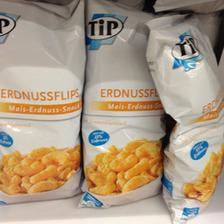Chips: (0, 0, 84, 202), (84, 0, 166, 204), (148, 18, 220, 222)
